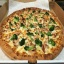pizza: (1, 8, 60, 60)
